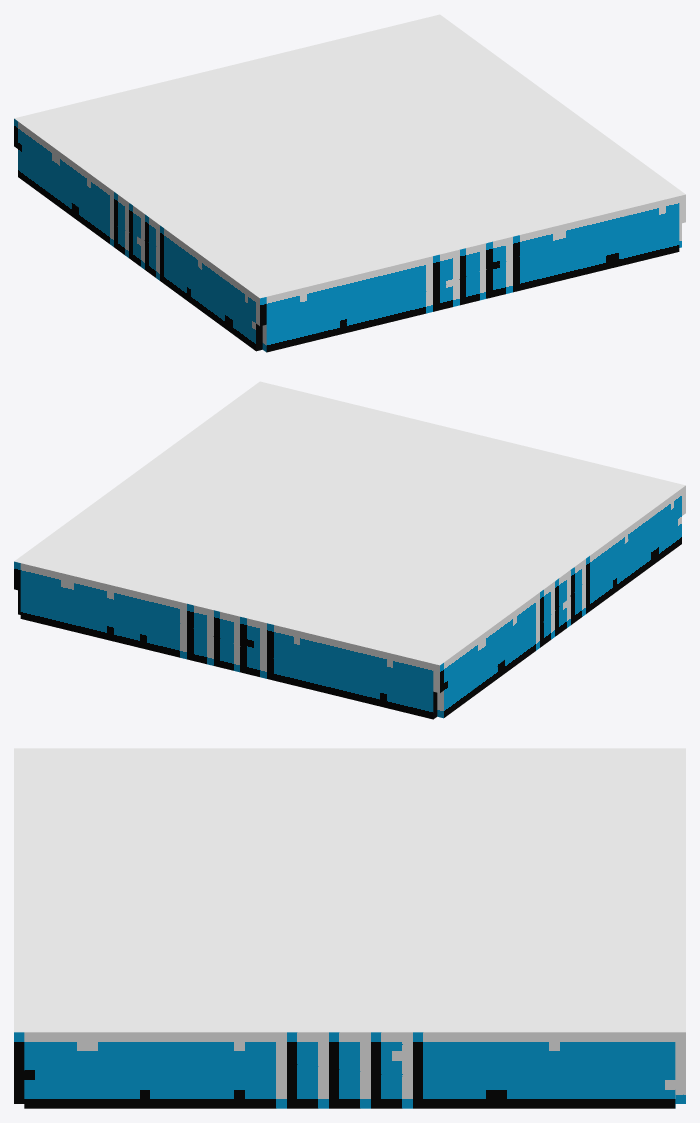
Rendered from lesser_gate_base_cmyao.fezao.glb.
The picture shows the model from 3 angles, top to bottom: view 1: azimuth 30°, elevation 25°; view 2: azimuth 150°, elevation 25°; view 3: azimuth 270°, elevation 25°; orthographic projection. The views are drawn at different scales.
Visible parts, largest first — view 1: LESSER_GATE_BASE_CMYAO; view 2: LESSER_GATE_BASE_CMYAO; view 3: LESSER_GATE_BASE_CMYAO.
Boxes of the visible parts, box(x1,y1,x2,y2) form: LESSER_GATE_BASE_CMYAO: box(14, 14, 685, 352); LESSER_GATE_BASE_CMYAO: box(14, 381, 685, 719); LESSER_GATE_BASE_CMYAO: box(14, 748, 685, 1108).
Bounding box in the file's own units: 4 × 0.5 × 4.
Materials: 1 (1 with a texture image).
